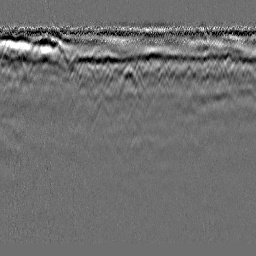cavity: (118, 63, 142, 95)
